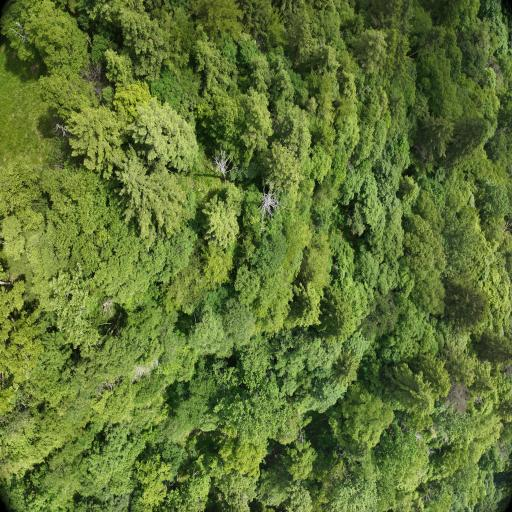dead-tree: (252, 176, 294, 233), (411, 425, 453, 457), (208, 144, 240, 183), (99, 297, 118, 317)
sick-tree: (438, 379, 474, 411), (493, 435, 508, 462)
